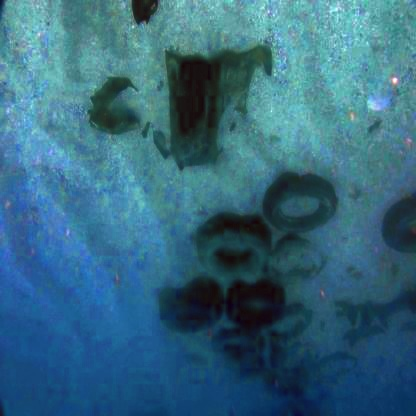tire: (262, 166, 341, 253), (145, 273, 229, 343), (197, 208, 272, 276), (223, 275, 289, 334), (376, 190, 416, 262)
